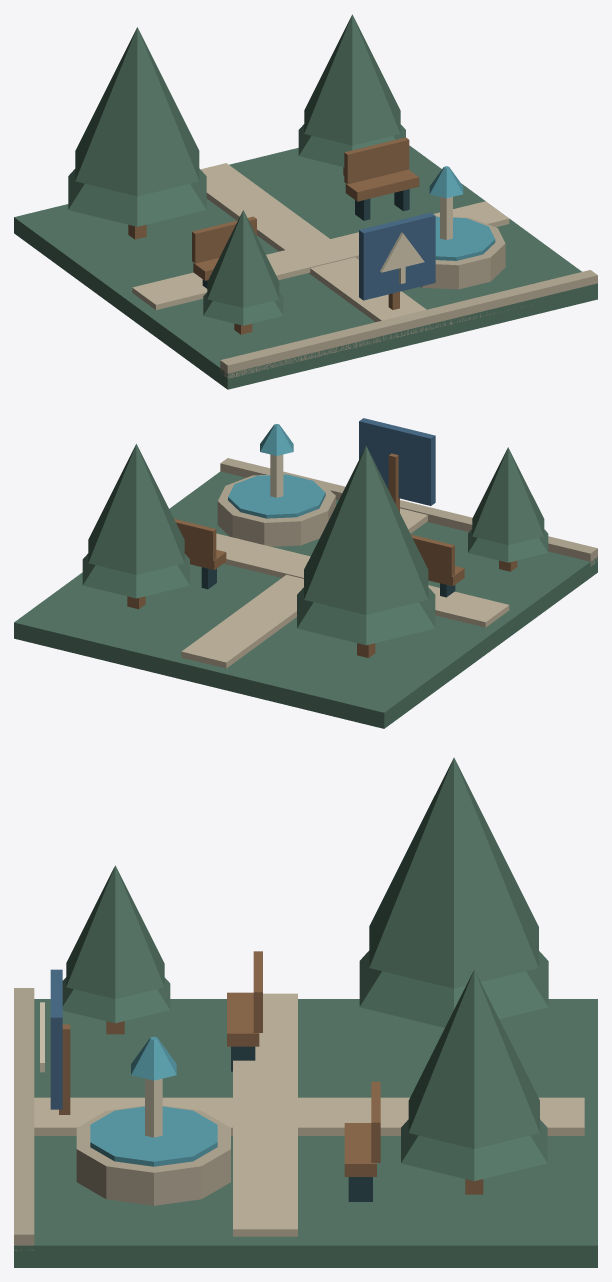
Rendered from park-seabreeze-complete.glb.
3 views of the same model, one above another, from view 1: azimuth 30°, elevation 25°; view 2: azimuth 150°, elevation 25°; view 3: azimuth 270°, elevation 25° (orthographic). The views are drawn at different scales.
Visible parts, largest first — view 1: park; view 2: park; view 3: park.
Boxes of the visible parts, bbox=[...] form: park: bbox=[14, 14, 597, 389]; park: bbox=[14, 418, 597, 728]; park: bbox=[14, 757, 597, 1267].
Size of the model in its own units: 2.88 by 1.69 by 2.88.
